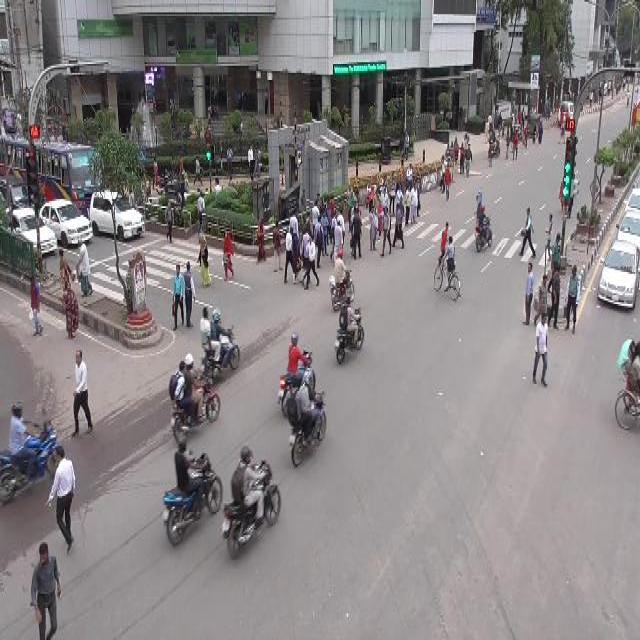car: (87, 180, 146, 242), (595, 233, 639, 316), (36, 194, 94, 249)
motorcycle: (162, 427, 224, 551), (221, 441, 281, 563), (0, 412, 61, 502), (287, 364, 327, 473), (331, 292, 364, 369), (472, 202, 492, 252)
